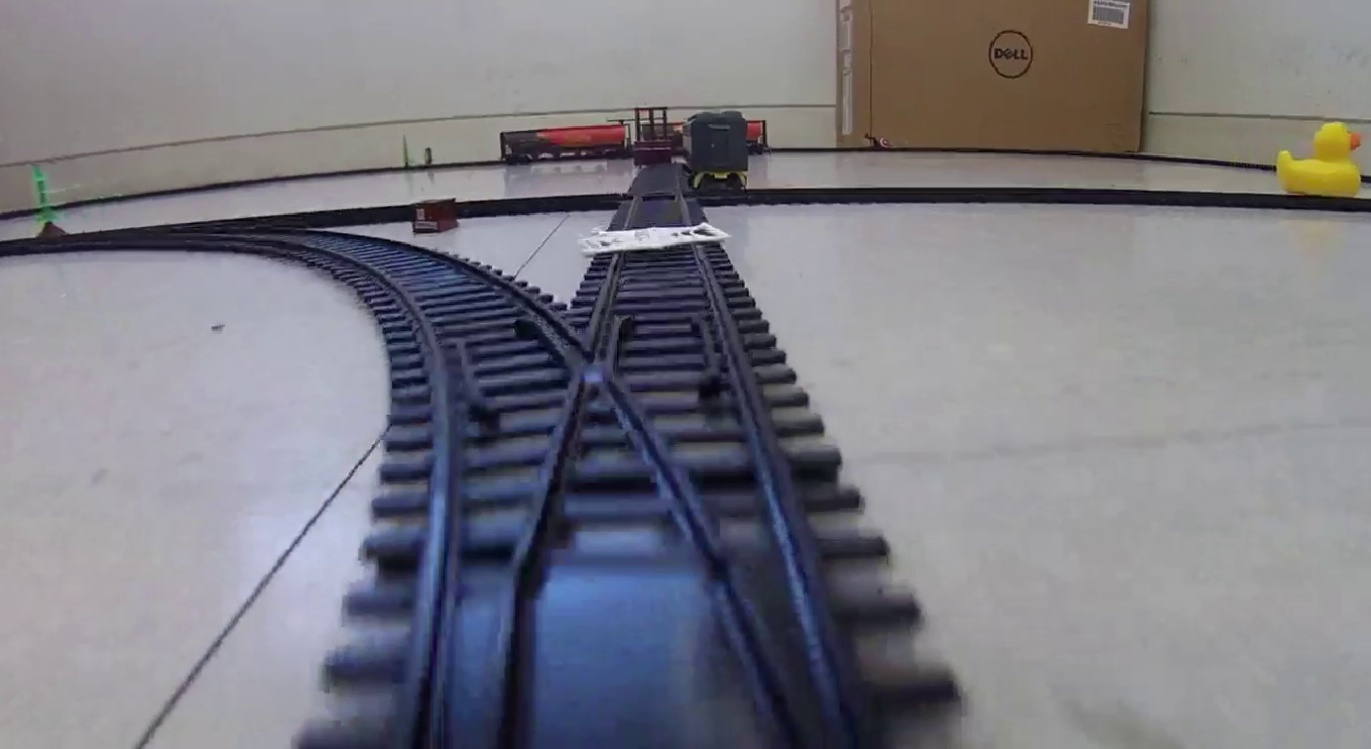box: (410, 196, 459, 237)
web: (581, 221, 729, 260)
